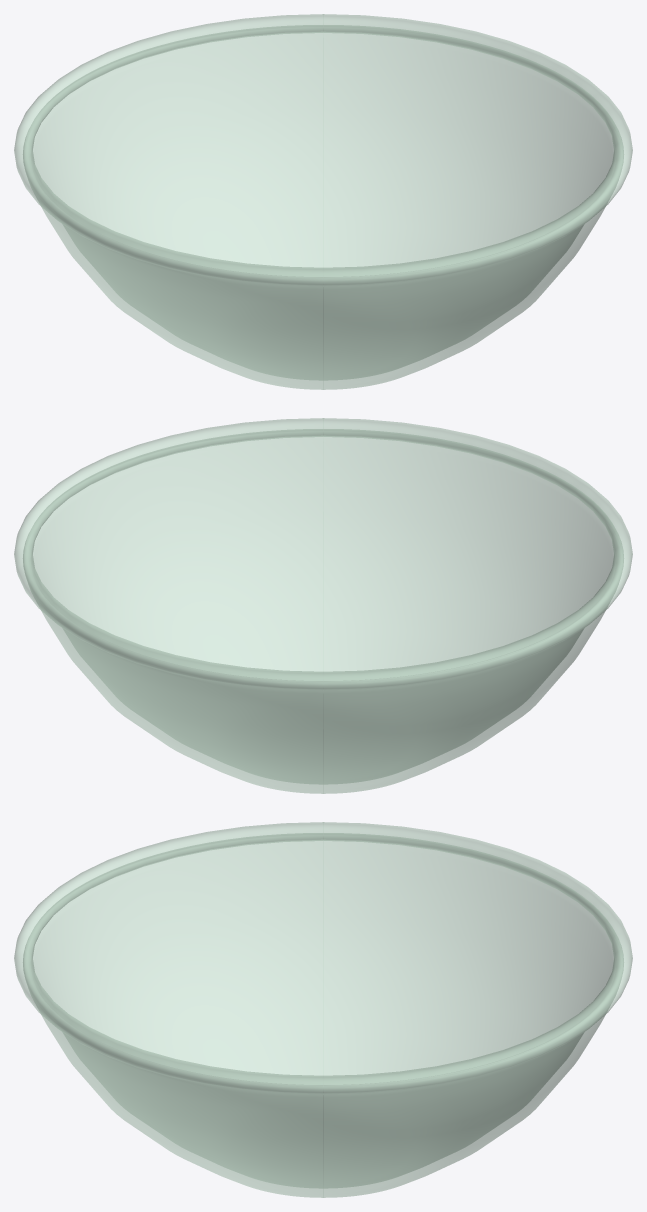
File: glass_bowl.glb
The picture shows the model from 3 angles, top to bottom: view 1: azimuth 30°, elevation 25°; view 2: azimuth 150°, elevation 25°; view 3: azimuth 270°, elevation 25°; orthographic projection.
Visible parts, largest first — view 1: bowl, rim; view 2: bowl, rim; view 3: bowl, rim.
Boxes of the visible parts, box(x1,y1,x2,y2) form: bowl: box(23, 25, 623, 389); rim: box(14, 14, 632, 286); bowl: box(23, 429, 623, 793); rim: box(14, 418, 632, 690); bowl: box(23, 833, 623, 1197); rim: box(14, 822, 632, 1094).
Bounding box in the file's own units: 0.1444 × 0.0533 × 0.1444.
